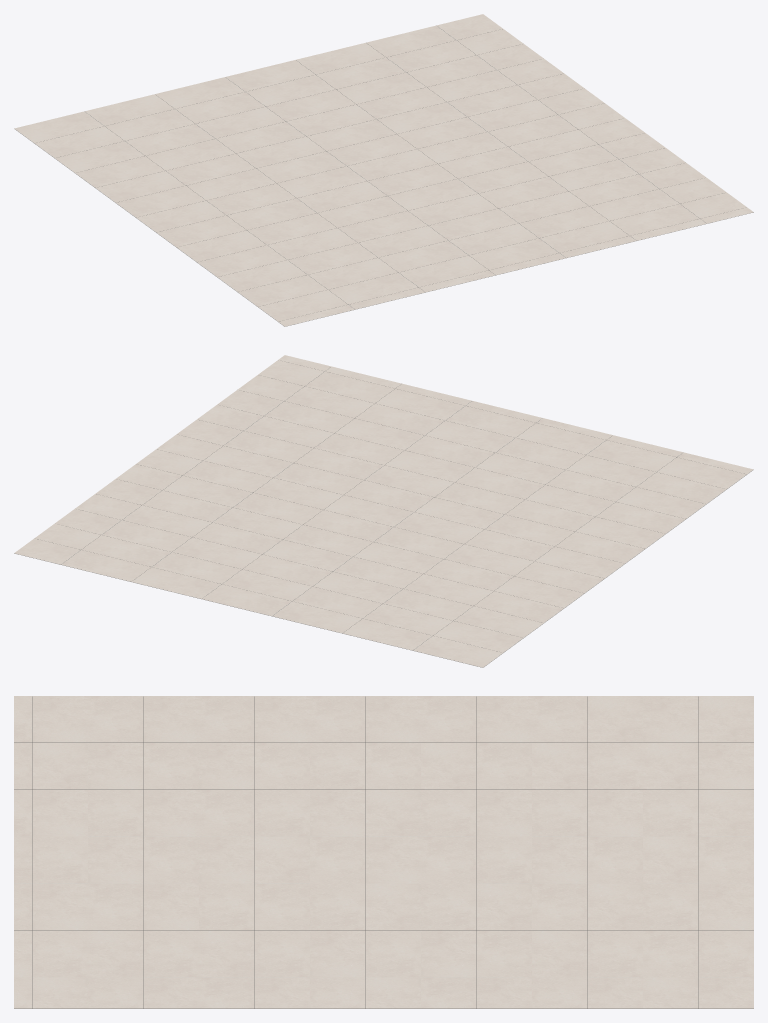
Rendered from country-beige-60x120.glb.
The picture shows the model from 3 angles, top to bottom: view 1: azimuth 30°, elevation 25°; view 2: azimuth 150°, elevation 25°; view 3: azimuth 270°, elevation 25°; orthographic projection. The views are drawn at different scales.
Visible parts, largest first — view 1: Country Beige; view 2: Country Beige; view 3: Country Beige.
Part boxes in pixels (x1,y1,x2,y2): Country Beige: [14, 14, 753, 326]; Country Beige: [14, 355, 753, 667]; Country Beige: [14, 696, 753, 1008].
Bounding box in the file's own units: 8 × 0.003 × 8.
2 materials, 1 textured.
